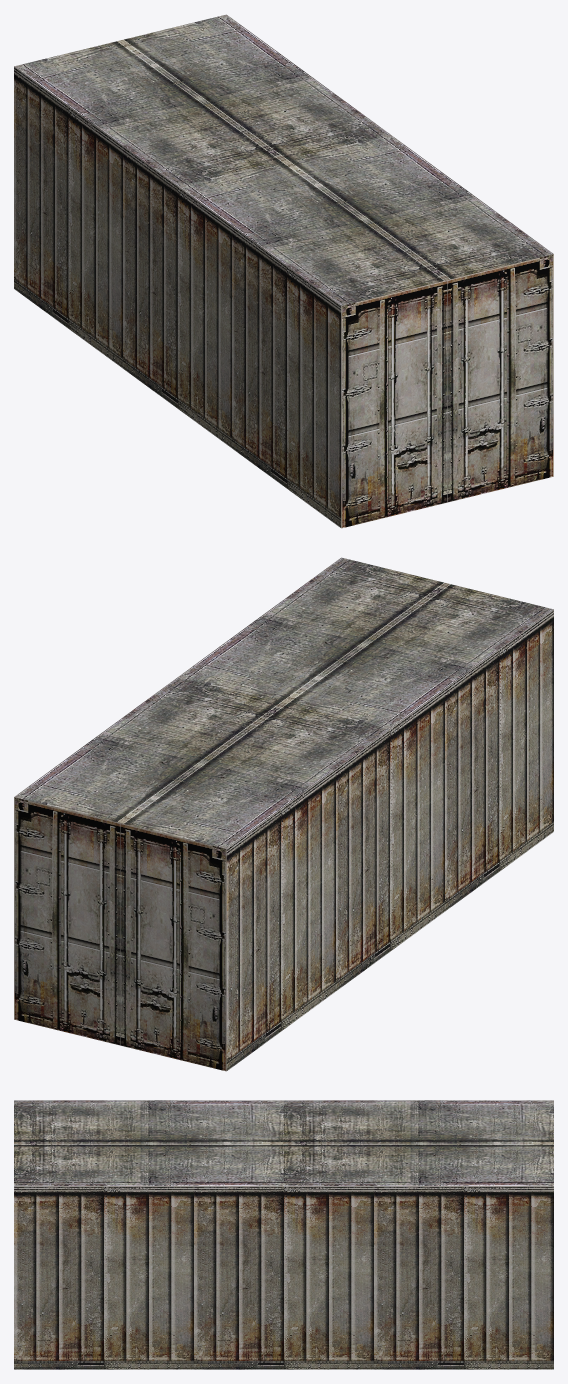
File: shipping_container.fbx
3 renders of one model, top to bottom at view 1: azimuth 30°, elevation 25°; view 2: azimuth 150°, elevation 25°; view 3: azimuth 270°, elevation 25°, orthographic. The views are drawn at different scales.
Visible parts, largest first — view 1: mesh_0; view 2: mesh_0; view 3: mesh_0.
Part boxes in pixels (x1,y1,x2,y2): mesh_0: (14, 14, 553, 528); mesh_0: (14, 557, 553, 1071); mesh_0: (14, 1100, 553, 1369).
Bounding box in the file's own units: 300 × 300 × 800.
Materials: 1 (1 with a texture image).
